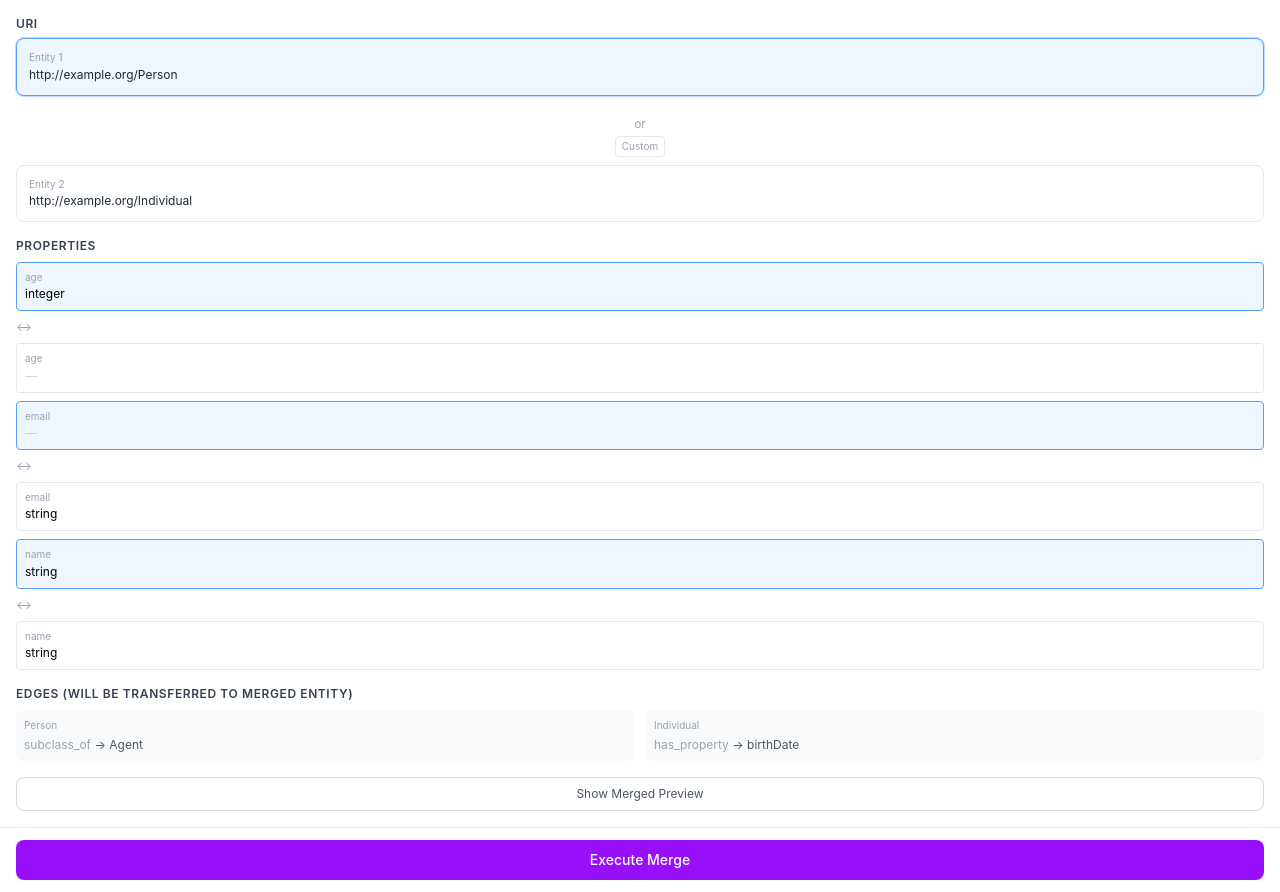
Test: MergeExecutor › shows error when merge fails
This screenshot has width=1280, height=892.
(page scrolled)
Click the button with test id "execute-merge-btn" at (640, 860), box [16, 840, 1264, 880]
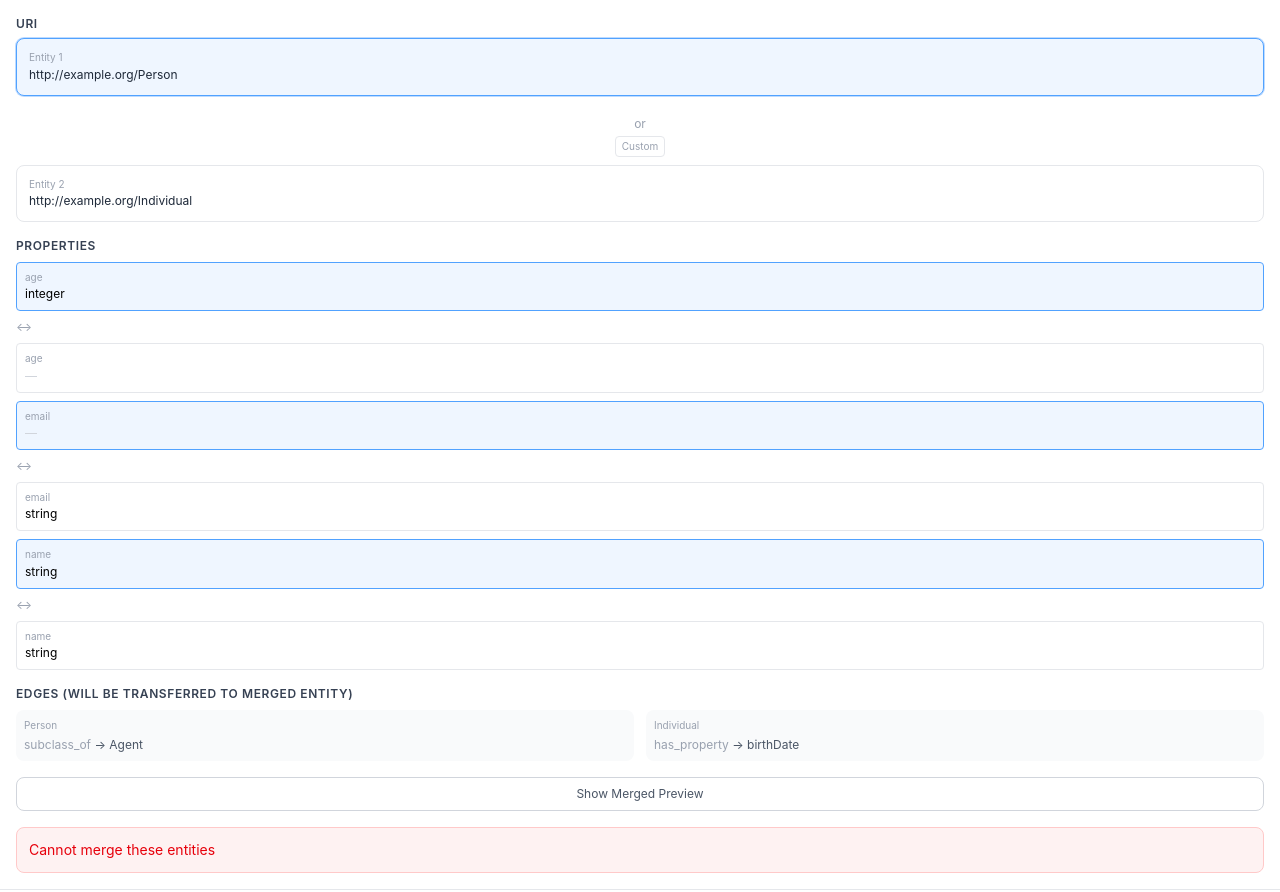
Result: the element with test id "merge-error" is shown at [16, 827, 1264, 873]
Result: the text "Cannot merge these entities" is shown at [29, 841, 215, 858]
